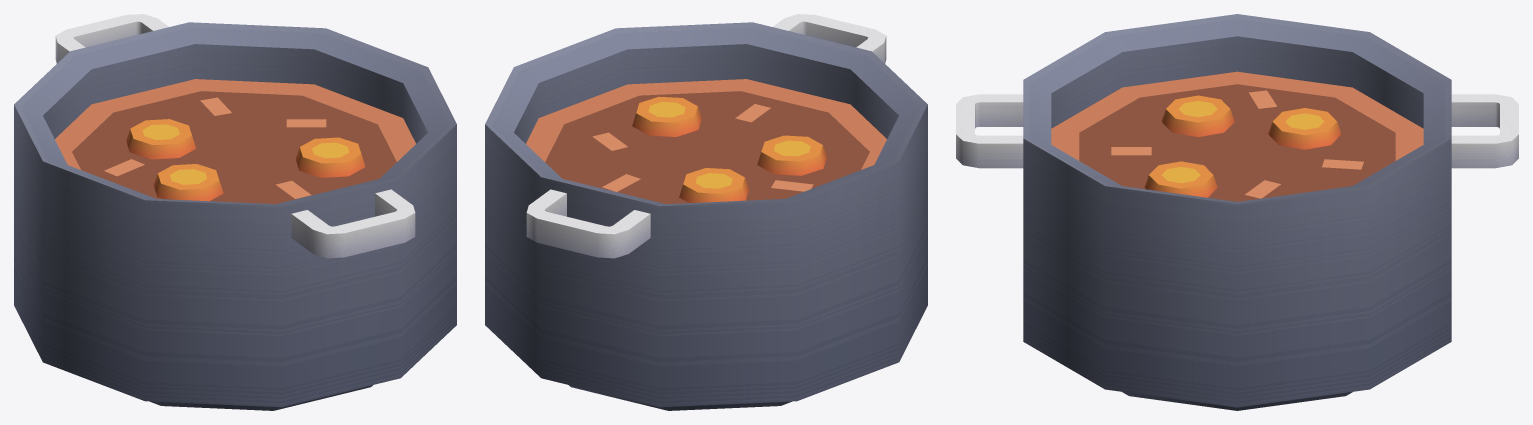
The model's file is pot-stew.glb.
3 views of the same model, side by side, from view 1: azimuth 30°, elevation 25°; view 2: azimuth 150°, elevation 25°; view 3: azimuth 270°, elevation 25° (orthographic).
Parts seen in each view (by area): view 1: pot-stew; view 2: pot-stew; view 3: pot-stew.
Part boxes in pixels (bbox=[...]): pot-stew: bbox=[14, 14, 456, 410]; pot-stew: bbox=[485, 14, 927, 410]; pot-stew: bbox=[956, 14, 1518, 410].
Size of the model in its own units: 0.6574 by 0.3606 by 0.8221.
1 material, 1 textured.
